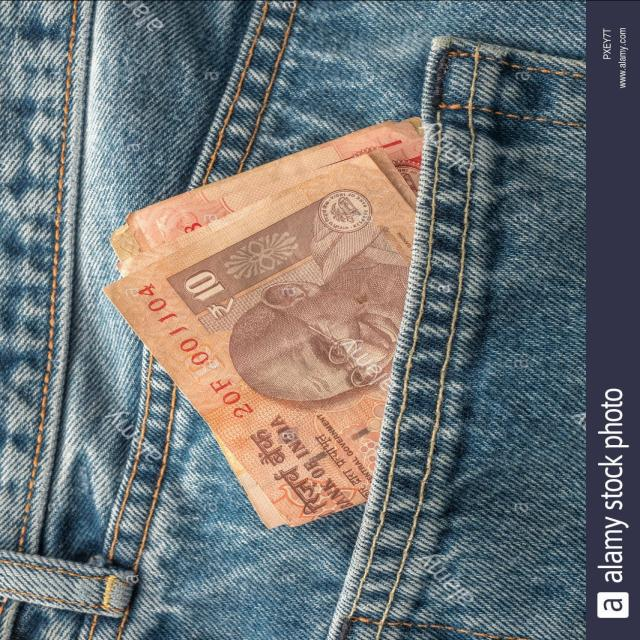10IndianRupees: (106, 130, 446, 529)
